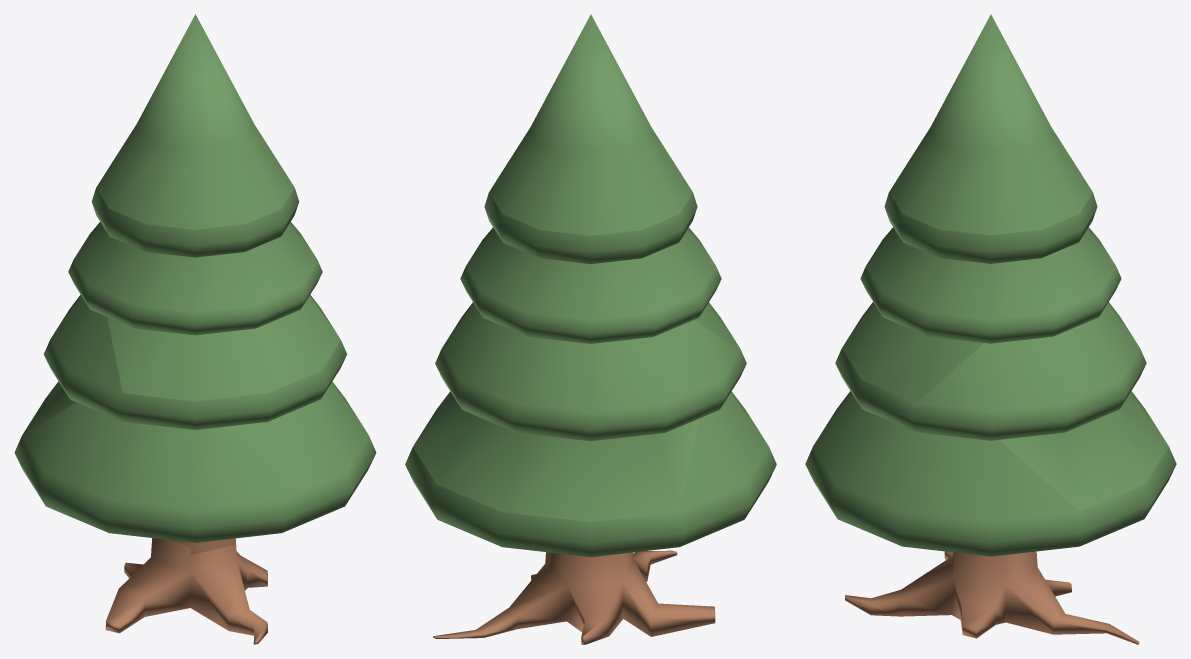
3 views of the same model, side by side, from view 1: azimuth 30°, elevation 25°; view 2: azimuth 150°, elevation 25°; view 3: azimuth 270°, elevation 25° (orthographic). The views are drawn at different scales.
Parts seen in each view (by area): view 1: polySurface27, polySurface30, polySurface23, polySurface31, sweep46; view 2: polySurface31, polySurface27, polySurface23, polySurface30, sweep46; view 3: polySurface27, polySurface31, polySurface30, polySurface23, sweep46.
Part boxes in pixels (bbox=[...]): polySurface27: bbox=[68, 188, 340, 401]; polySurface30: bbox=[14, 381, 376, 542]; polySurface23: bbox=[96, 14, 294, 229]; polySurface31: bbox=[22, 294, 347, 434]; sweep46: bbox=[105, 538, 267, 644]; polySurface31: bbox=[413, 302, 746, 521]; polySurface27: bbox=[460, 193, 739, 348]; polySurface23: bbox=[489, 14, 692, 235]; polySurface30: bbox=[405, 391, 776, 557]; sweep46: bbox=[433, 550, 715, 644]; polySurface27: bbox=[842, 193, 1121, 402]; polySurface31: bbox=[835, 302, 1168, 511]; polySurface30: bbox=[805, 391, 1176, 556]; polySurface23: bbox=[889, 14, 1092, 235]; sweep46: bbox=[845, 551, 1139, 644].
Bounding box in the file's own units: 15.74 × 27.98 × 15.74.
